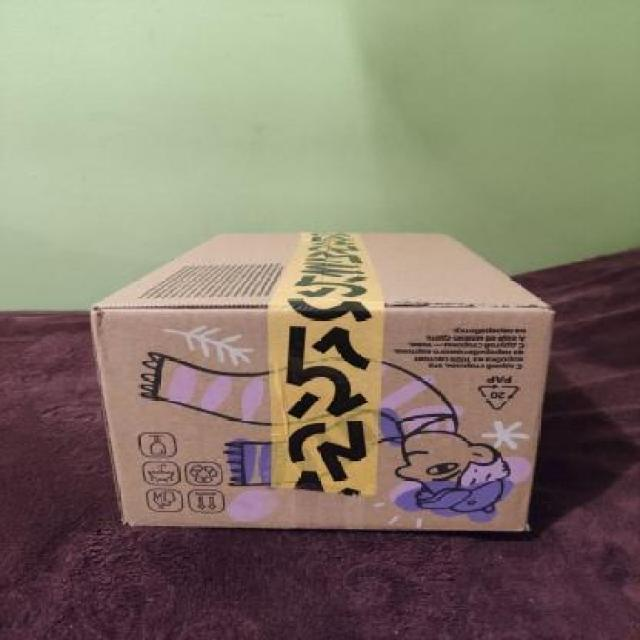box: (83, 218, 556, 536)
